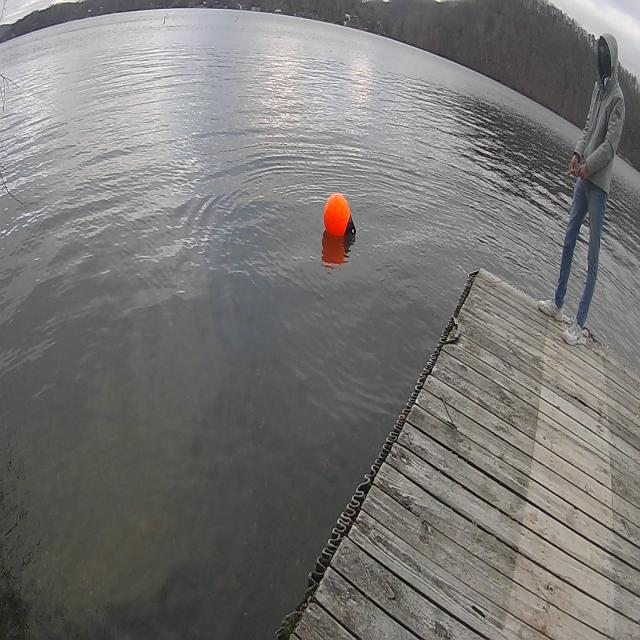Buoy: (322, 184, 358, 246)
